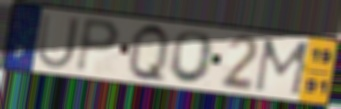2: (219, 33, 261, 93)
M: (251, 36, 314, 99)
O: (166, 29, 218, 86)
P: (72, 15, 123, 76)
Q: (127, 21, 171, 87)
U: (35, 11, 83, 72)
